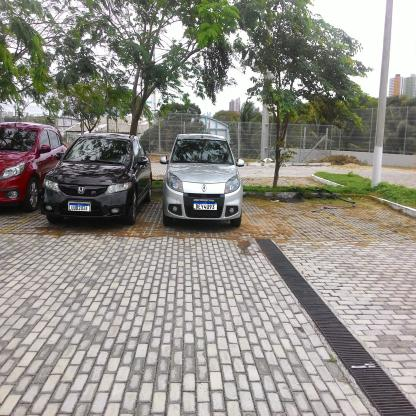PlacaM: (193, 201, 218, 211), (69, 203, 90, 212)
